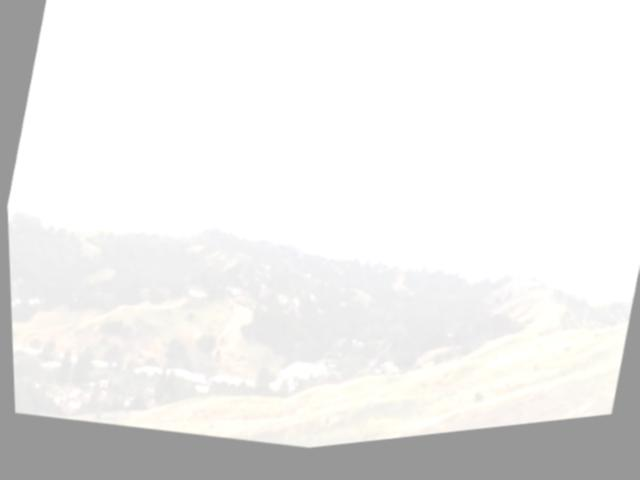iha: (231, 49, 273, 81)
